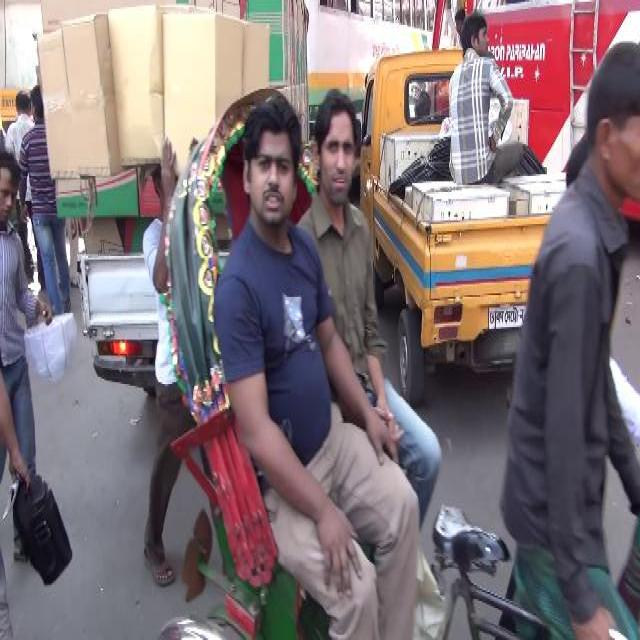pickup: (354, 41, 600, 421)
rickshaw: (154, 80, 632, 638)
